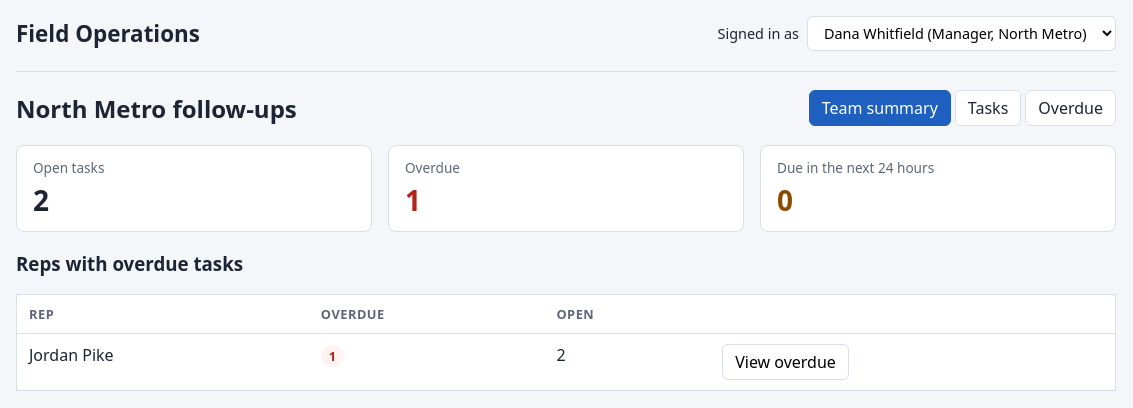
Test case: App › lands managers on the team summary, refetches it each time it is opened, and links a rep to their overdue tasks
Check: the text "Due in the next 24 hours" is shown, box [777,158,934,177]
Click the button with aria-label "View Jordan Pike's overdue tasks" at (786, 362), box [722,344,849,380]
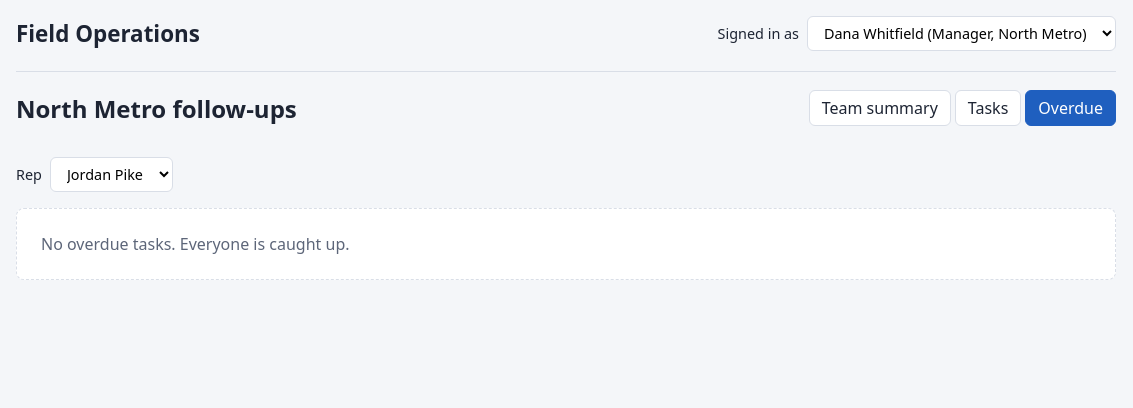
Check: the dropdown labelled "Rep" shows "Jordan Pike", box [50,157,173,192]
Click the button "Team summary" at (880, 108), box [809,90,951,126]
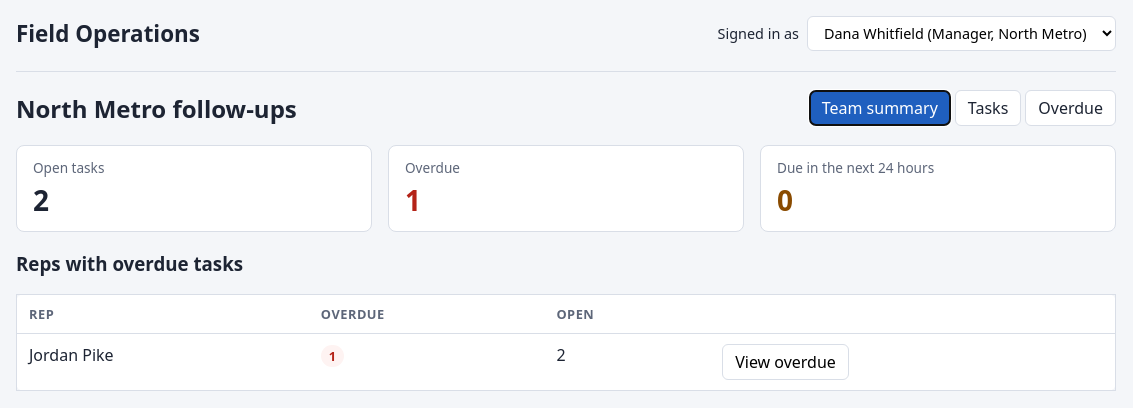
Check: the text "Jordan Pike" is shown, box [16,334,309,391]
